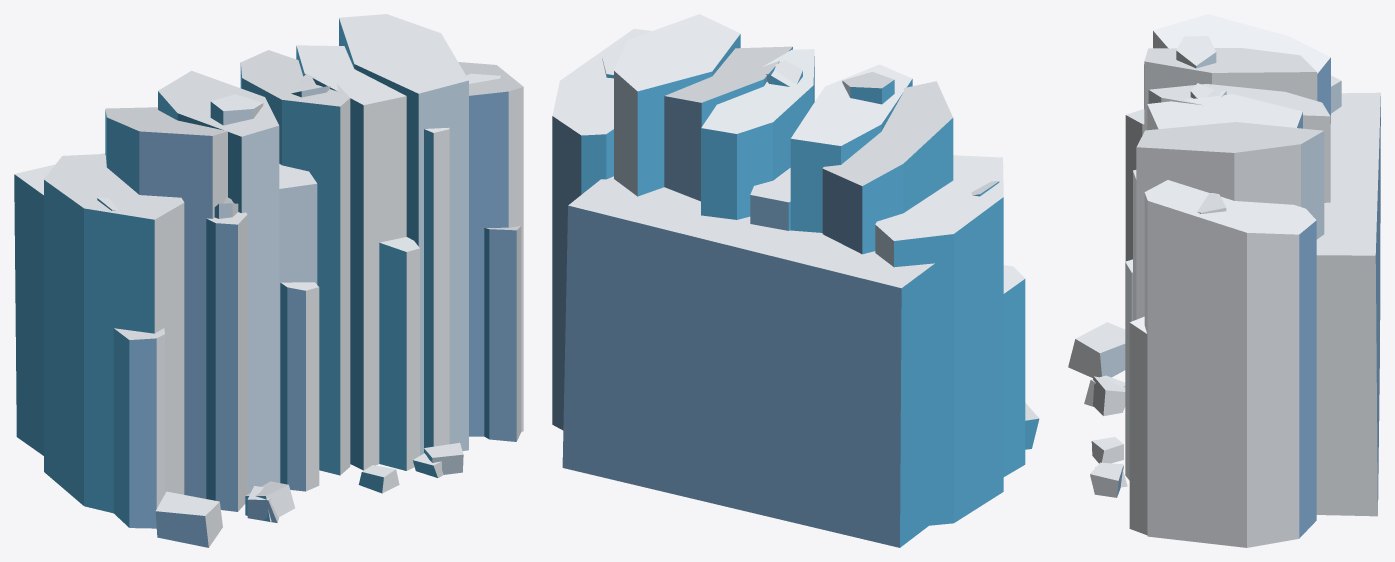
The model's file is GlacierWallB.fbx.
3 renders of one model, left to right at view 1: azimuth 30°, elevation 25°; view 2: azimuth 150°, elevation 25°; view 3: azimuth 270°, elevation 25°, orthographic. The views are drawn at different scales.
Visible parts, largest first — view 1: GlacierWallB; view 2: GlacierWallB; view 3: GlacierWallB.
Part boxes in pixels (left/top/right/bottom): GlacierWallB: left=14, top=14, right=523, bottom=547; GlacierWallB: left=552, top=14, right=1039, bottom=547; GlacierWallB: left=1068, top=14, right=1380, bottom=547.
Size of the model in its own units: 9.41 by 7.88 by 6.07.
1 material, 1 textured.
